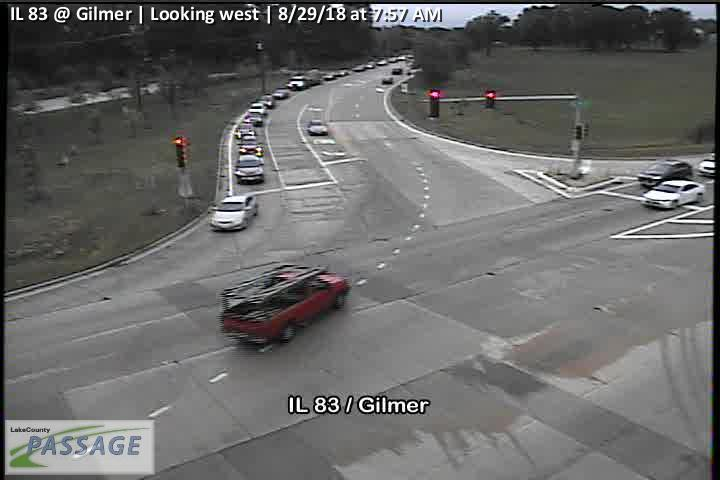SUV: (636, 158, 693, 190)
Sedan: (639, 178, 705, 209), (210, 193, 259, 231), (233, 153, 265, 184), (237, 134, 263, 153), (306, 118, 328, 135), (233, 123, 257, 136), (254, 92, 274, 107), (246, 101, 266, 115), (243, 112, 264, 124), (271, 87, 289, 99)
Truck: (216, 264, 351, 345)
